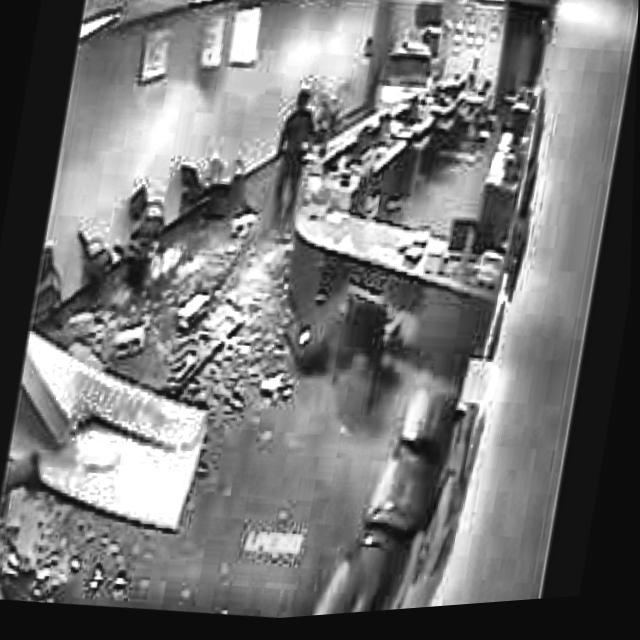Weapon: (262, 64, 330, 273)
